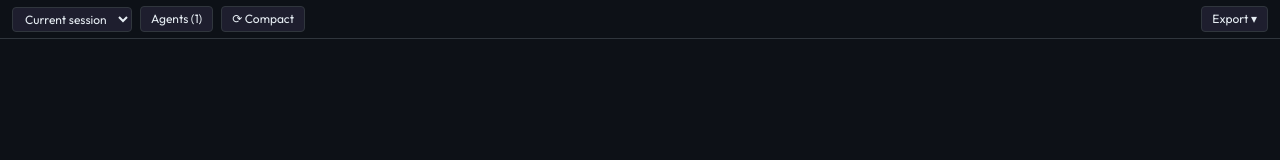
Test: SessionToolbar › renders agent list with checkboxes in dropdown
Note: Open the dropdown
Click the button "Agents (1)": click(177, 19) [140,6,213,32]
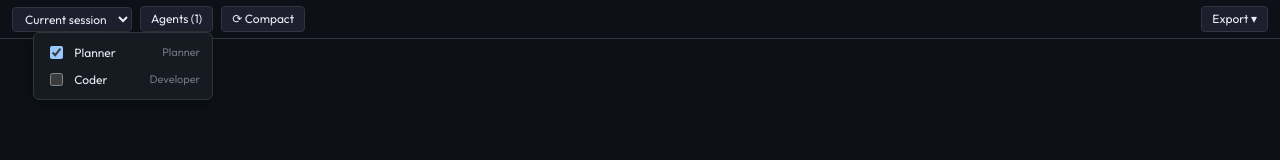
Check: the number of checkboxes is 2, box [50,46,63,59]; [50,73,63,86]
Check: the checkbox labelled "Planner Planner" is checked, box [50,46,63,59]
Check: the checkbox labelled "Coder Developer" is not checked, box [50,73,63,86]
